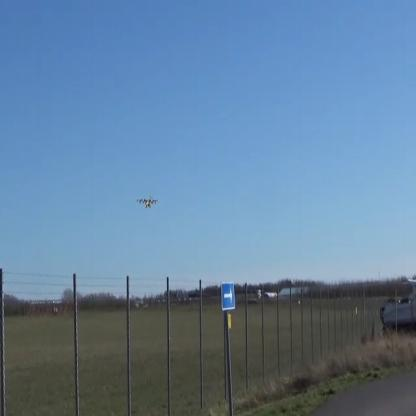CIV_Plane: (132, 194, 165, 212)
